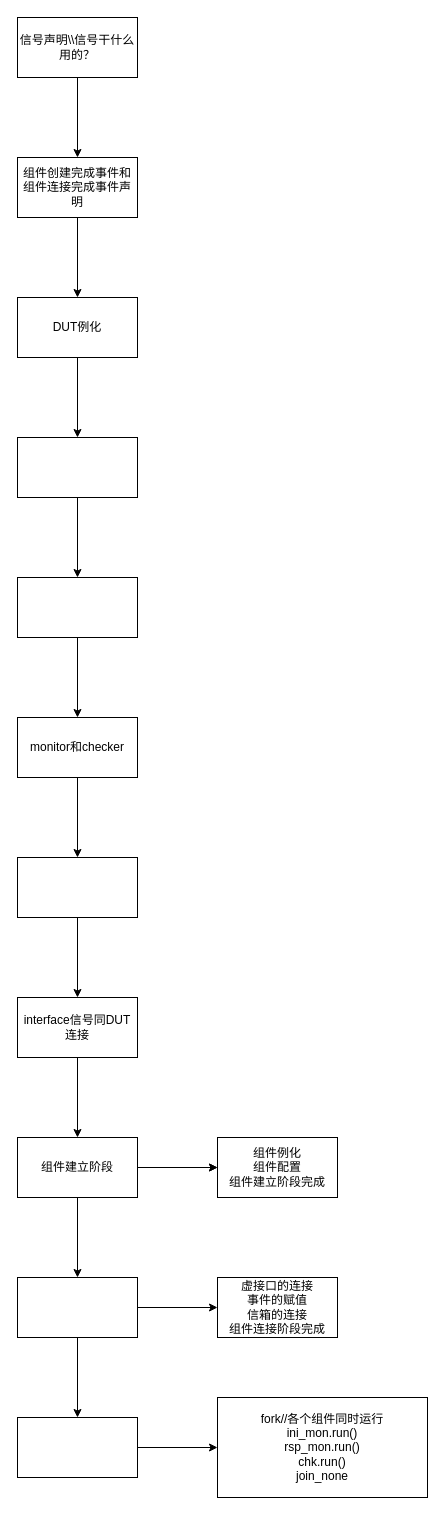
Image size: 445x1515. Some labels were removed from this diagram. Each missing label, with the centre of its shape:
"interface例化" goes at pixel 77 887.
"stimulator的例化和连接" goes at pixel 77 607.
"产生时钟和复位" goes at pixel 77 467.
"组件运行阶段" goes at pixel 77 1447.
"组件连接阶段" goes at pixel 77 1307.
